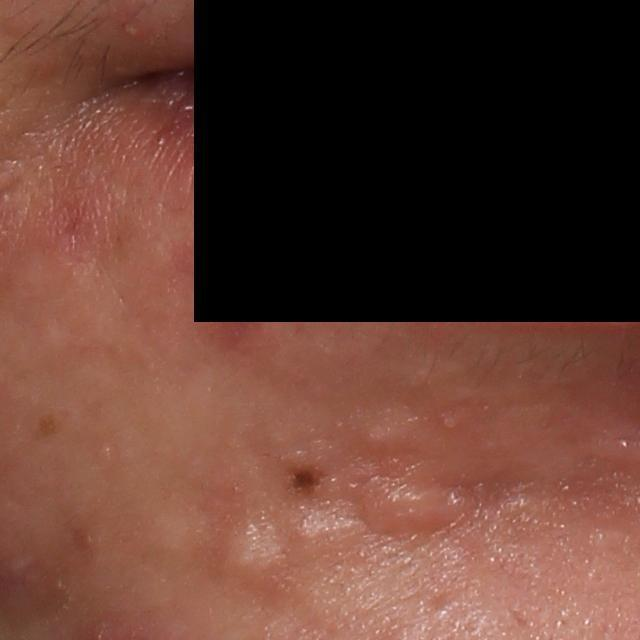hypertrophic_scar: (352, 475, 467, 537), (218, 512, 287, 593), (136, 507, 215, 569), (356, 404, 426, 458), (299, 510, 380, 549)
nevus: (280, 447, 331, 504)
